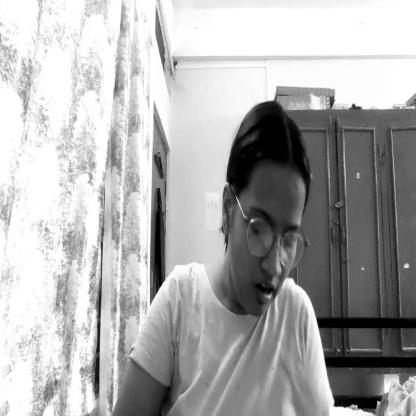Distracted: (223, 103, 311, 314)
